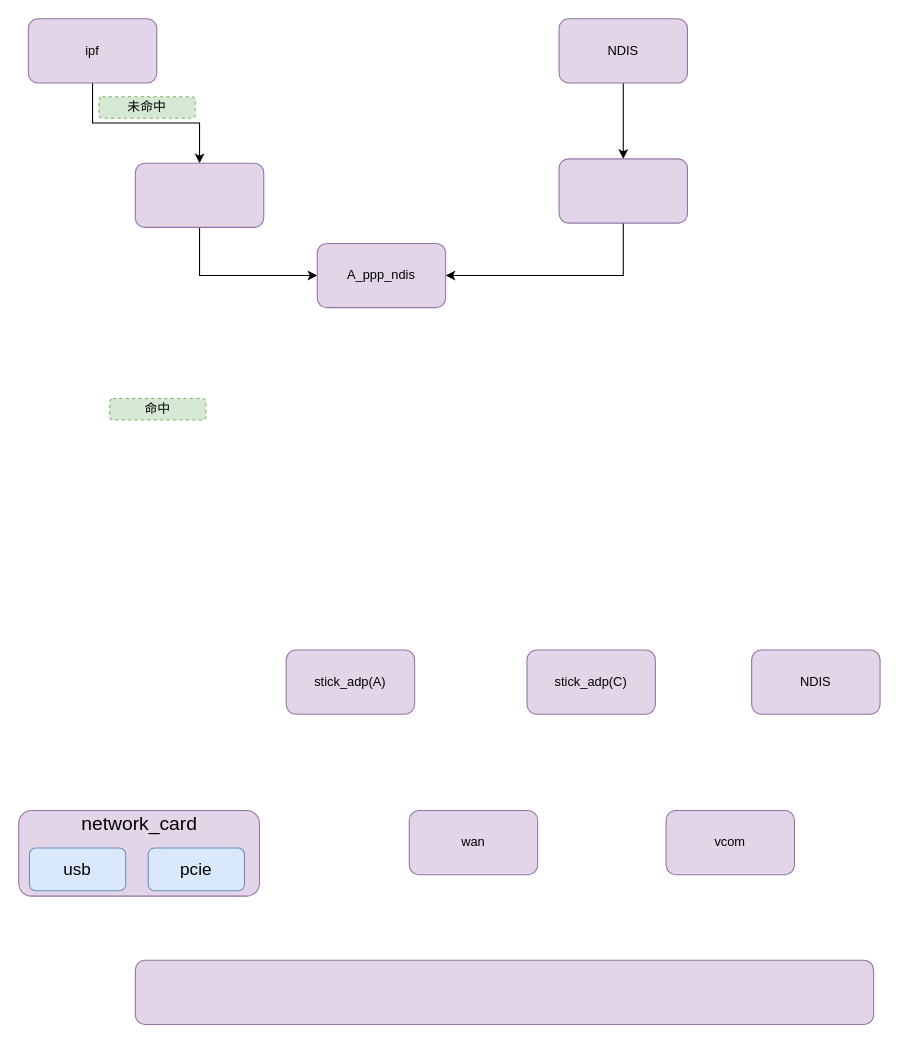
Image size: 899x1043. Some labels were removed from this diagram. The shapes that lost their labels are listed below. From the top down, each one's centre as x and y in pixels, then its label:
At point 199,194: "cpu".
At point 622,190: "C_ppp_ndis".
At point 504,992: "pfa".
